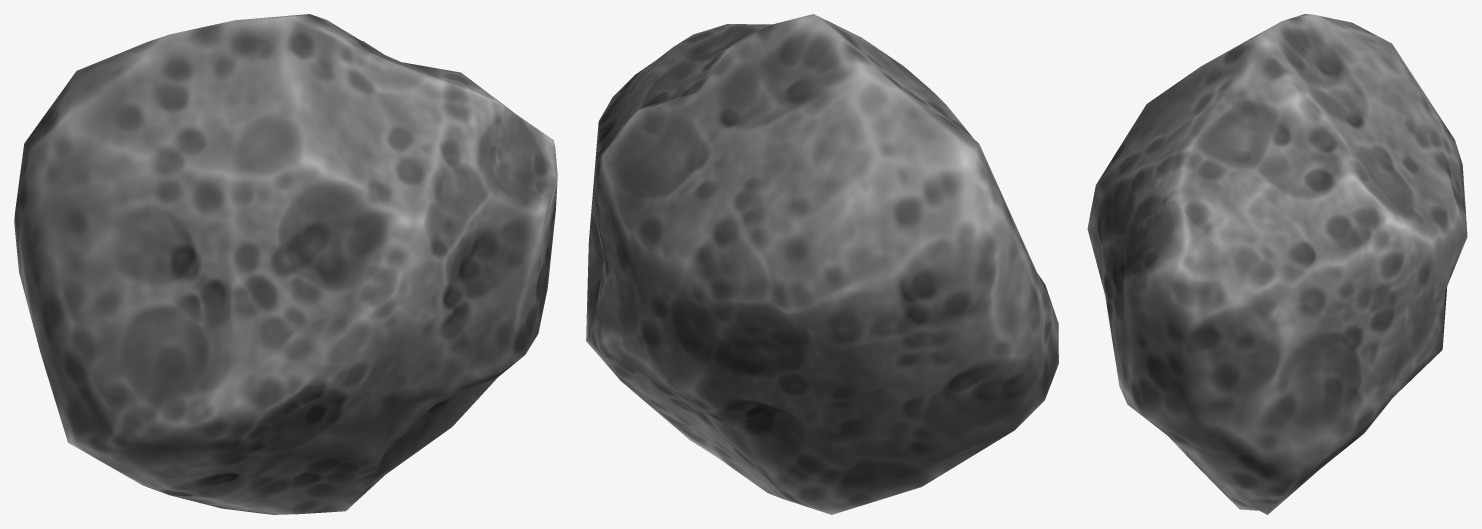
File: SmallMeteo2.fbx
The picture shows the model from 3 angles, left to right: view 1: azimuth 30°, elevation 25°; view 2: azimuth 150°, elevation 25°; view 3: azimuth 270°, elevation 25°; orthographic projection. The views are drawn at different scales.
Parts seen in each view (by area): view 1: Meteorite_01; view 2: Meteorite_01; view 3: Meteorite_01.
Boxes of the visible parts, x1,y1,x2,y2 form: Meteorite_01: (14,14,557,514); Meteorite_01: (586,14,1058,514); Meteorite_01: (1087,14,1467,514).
Size of the model in its own units: 635 by 641 by 487.
